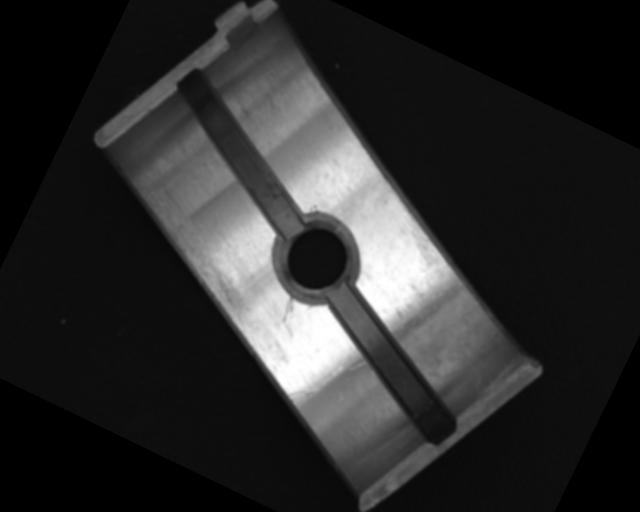gap: (137, 65, 342, 242), (295, 283, 487, 446)
hole: (263, 204, 371, 313)
nick: (287, 349, 344, 415), (277, 297, 297, 324)
scratch: (103, 177, 280, 326)
